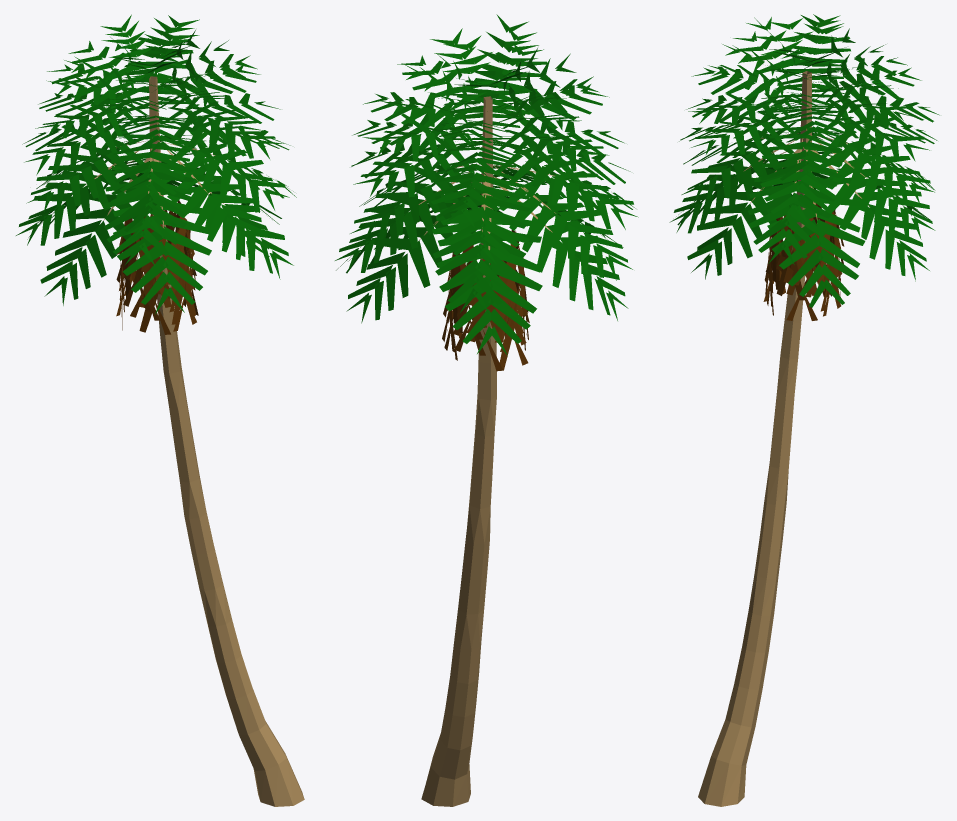
File: Palm2LOD1.FBX
The picture shows the model from 3 angles, left to right: view 1: azimuth 30°, elevation 25°; view 2: azimuth 150°, elevation 25°; view 3: azimuth 270°, elevation 25°; orthographic projection. The views are drawn at different scales.
Visible parts, largest first — view 1: Palm2_2, Palm2_1, Palm2_3; view 2: Palm2_2, Palm2_1, Palm2_3; view 3: Palm2_2, Palm2_1, Palm2_3.
Part boxes in pixels (x1,y1,x2,y2): Palm2_2: (16, 14, 296, 314); Palm2_1: (149, 76, 304, 806); Palm2_3: (116, 200, 198, 334); Palm2_2: (335, 14, 638, 355); Palm2_1: (421, 96, 496, 806); Palm2_3: (442, 230, 529, 371); Palm2_2: (669, 14, 939, 307); Palm2_1: (698, 71, 811, 806); Palm2_3: (763, 203, 844, 320).
Size of the model in its own units: 138 by 385 by 129.
